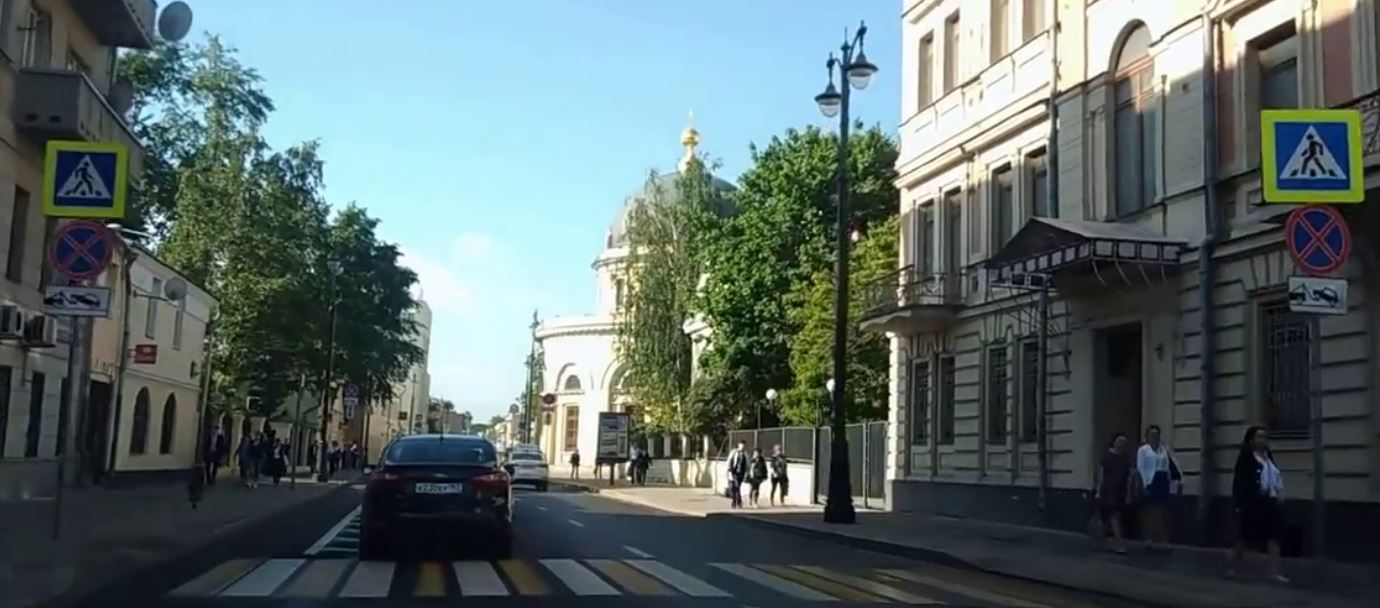Yaya Gecidi: (1275, 117, 1358, 186), (50, 147, 118, 211)
